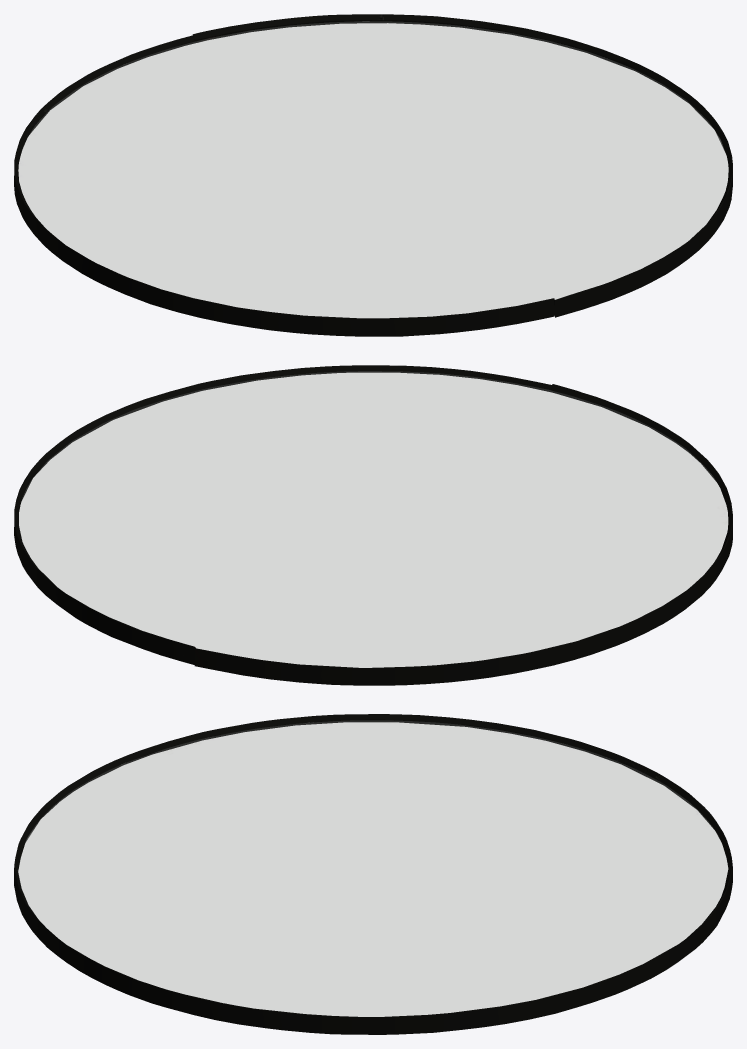
The model's file is LB-MIRROR-01.glb.
3 renders of one model, top to bottom at view 1: azimuth 30°, elevation 25°; view 2: azimuth 150°, elevation 25°; view 3: azimuth 270°, elevation 25°, orthographic.
Parts seen in each view (by area): view 1: ASY_ART_50458614_S01_NV01; view 2: ASY_ART_50458614_S01_NV01; view 3: ASY_ART_50458614_S01_NV01.
Boxes of the visible parts, box(x1,y1,x2,y2) form: ASY_ART_50458614_S01_NV01: box(14, 14, 732, 336); ASY_ART_50458614_S01_NV01: box(14, 365, 732, 685); ASY_ART_50458614_S01_NV01: box(14, 714, 732, 1034).
Size of the model in its own units: 0.7981 by 0.025 by 0.8.
Materials: 2 (2 with a texture image).
